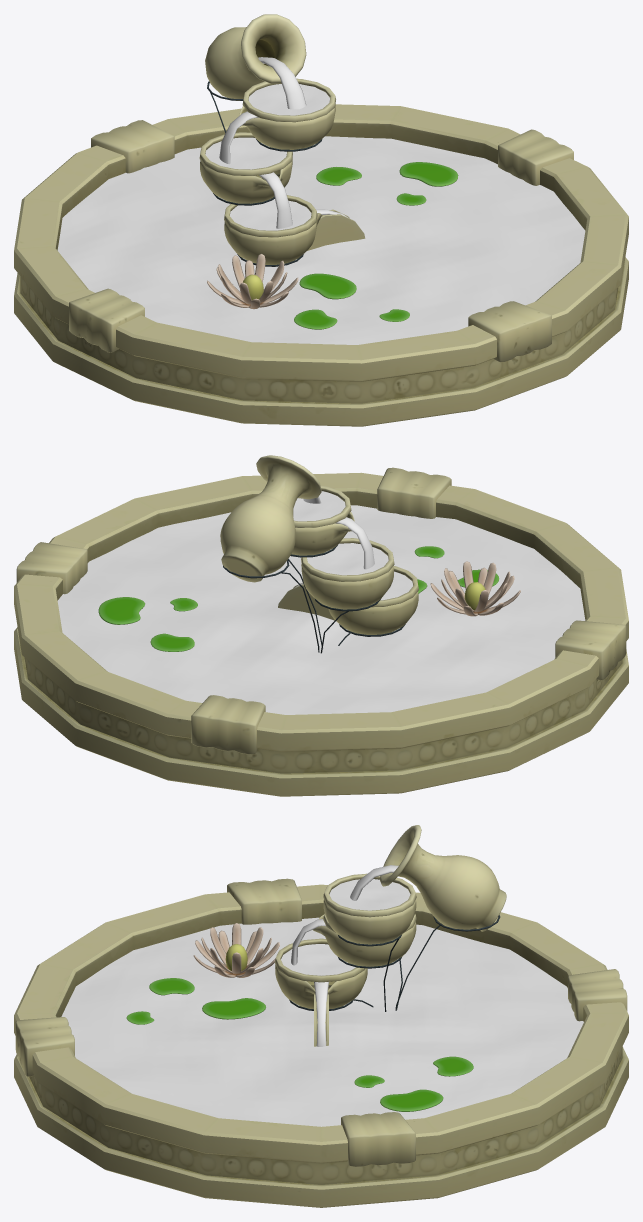
Rendered from WaterFountain.fbx.
3 renders of one model, top to bottom at view 1: azimuth 30°, elevation 25°; view 2: azimuth 150°, elevation 25°; view 3: azimuth 270°, elevation 25°, orthographic.
Visible parts, largest first — view 1: Base_LP, AguaBase_LP, BaseDetalle_LP, JarronFlaco_LP, Nenufar_LP, JarronGordo_3_LP, JarronGordo_1_LP, JarronGordo_2_LP, Flor_LP, AguaJarronGordo_2_LP, AguaJarronGordo_3_LP, AguaJarronGordo_1_LP (+4 smaller); view 2: Base_LP, AguaBase_LP, BaseDetalle_LP, JarronFlaco_LP, JarronGordo_2_LP, Flor_LP, Nenufar_LP, JarronGordo_1_LP, JarronGordo_3_LP, AguaJarronGordo_2_LP, AguaJarronGordo_3_LP, FuenteBase_LP (+2 smaller); view 3: AguaBase_LP, Base_LP, BaseDetalle_LP, JarronFlaco_LP, Nenufar_LP, JarronGordo_3_LP, JarronGordo_1_LP, Flor_LP, JarronGordo_2_LP, AguaJarronGordo_3_LP, AguaJarronGordo_1_LP, CorrienteJarronGordo_1_LP.
Part boxes in pixels (x1,y1,x2,y2): Base_LP: [14, 104, 628, 426]; AguaBase_LP: [57, 136, 585, 344]; BaseDetalle_LP: [69, 120, 573, 362]; JarronFlaco_LP: [205, 14, 306, 100]; Nenufar_LP: [294, 162, 458, 329]; JarronGordo_3_LP: [239, 78, 335, 149]; JarronGordo_1_LP: [224, 195, 322, 264]; JarronGordo_2_LP: [199, 132, 292, 203]; Flor_LP: [207, 254, 298, 309]; AguaJarronGordo_2_LP: [205, 137, 286, 169]; AguaJarronGordo_3_LP: [248, 84, 329, 115]; AguaJarronGordo_1_LP: [230, 199, 311, 230]; Base_LP: [14, 472, 628, 796]; AguaBase_LP: [57, 505, 585, 714]; BaseDetalle_LP: [16, 467, 626, 754]; JarronFlaco_LP: [220, 455, 321, 582]; JarronGordo_2_LP: [301, 538, 394, 609]; Flor_LP: [430, 561, 520, 616]; Nenufar_LP: [98, 546, 499, 651]; JarronGordo_1_LP: [328, 566, 418, 634]; JarronGordo_3_LP: [291, 485, 354, 555]; AguaJarronGordo_2_LP: [307, 543, 388, 575]; AguaJarronGordo_3_LP: [293, 491, 345, 521]; FuenteBase_LP: [278, 582, 334, 620]; AguaBase_LP: [61, 917, 583, 1126]; Base_LP: [14, 884, 628, 1207]; BaseDetalle_LP: [15, 878, 627, 1166]; JarronFlaco_LP: [380, 825, 506, 931]; Nenufar_LP: [126, 978, 473, 1111]; JarronGordo_3_LP: [323, 873, 416, 944]; JarronGordo_1_LP: [274, 938, 367, 1009]; Flor_LP: [193, 923, 279, 977]; JarronGordo_2_LP: [313, 914, 416, 966]; AguaJarronGordo_3_LP: [329, 879, 410, 910]; AguaJarronGordo_1_LP: [281, 944, 355, 975]; CorrienteJarronGordo_1_LP: [314, 982, 328, 1046].
Size of the model in its own units: 2339 by 1036 by 2339.
